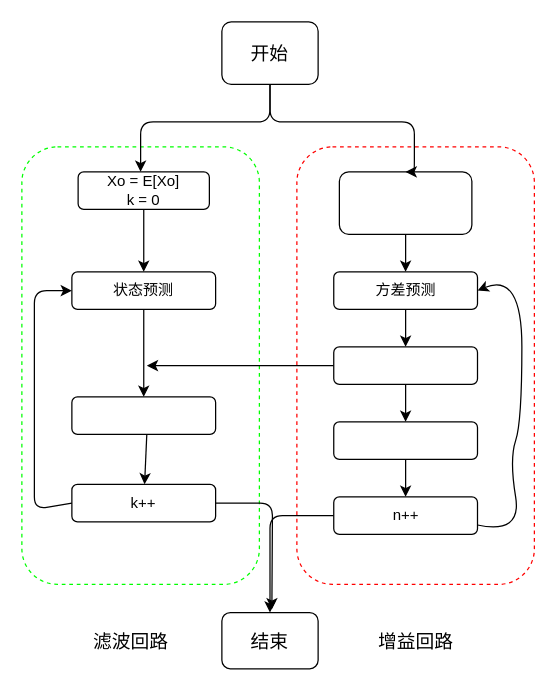
Some shapes in this 556 by 691 pixel diagram are drawn without their labels. Each missing label, with the centre of its shape:
Pod = Var[Xo] n = 0: [405,202]
计算滤波增益: [405,365]
进行方差递推: [405,440]
递推滤波: [143,415]
